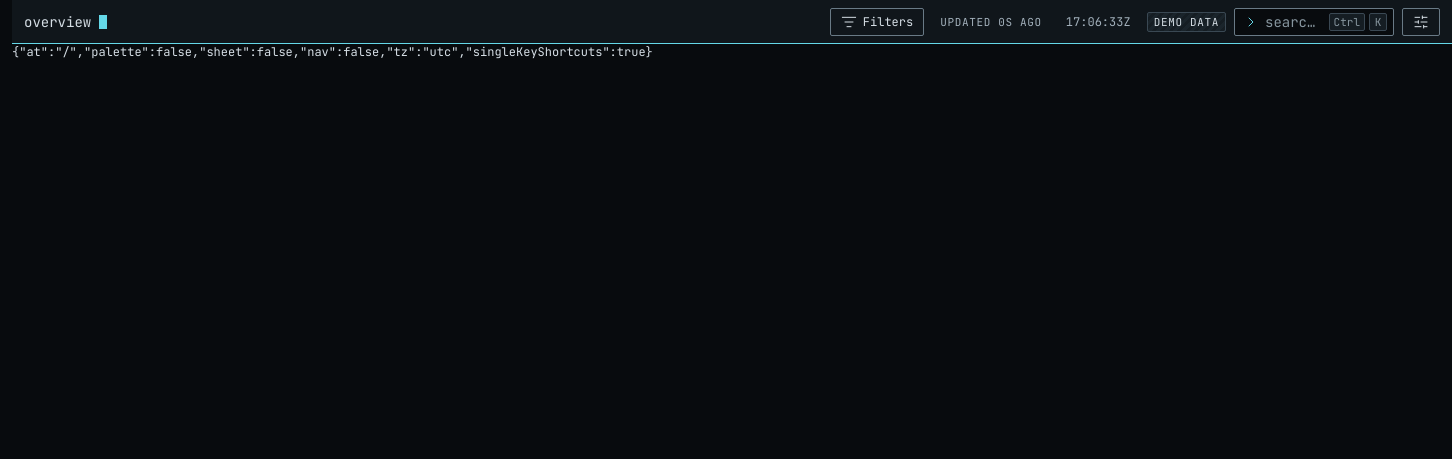
Test: Topbar: compact (below 1280px) › applies a choice from the menu, keeps the menu open, and shows how many filters are active
The width and height of the screenshot is (1452, 459).
Click the button "Filters".
click(877, 22)  # box [830,8,924,36]
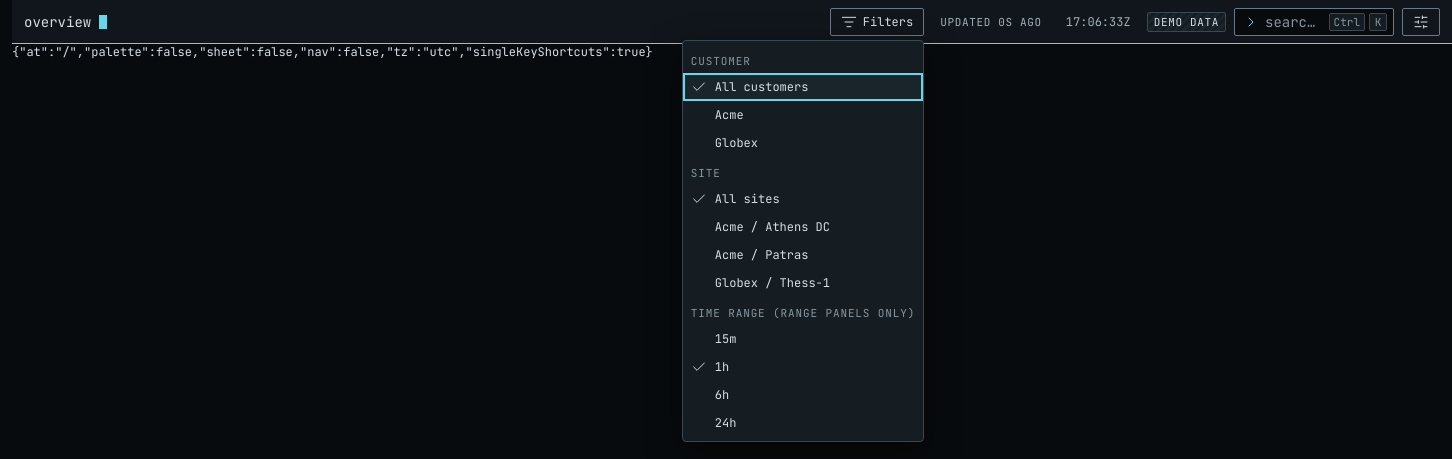
Click the menu item "Acme".
click(803, 115)  # box [683,101,923,129]
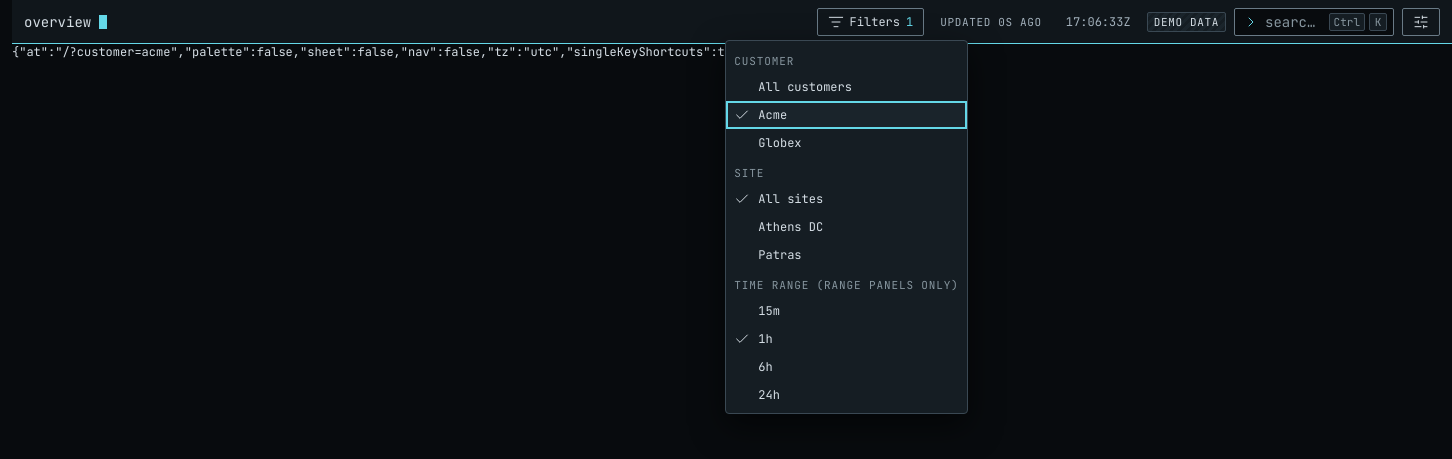
Click the menu item "6h".
click(846, 367)  # box [726,353,967,381]
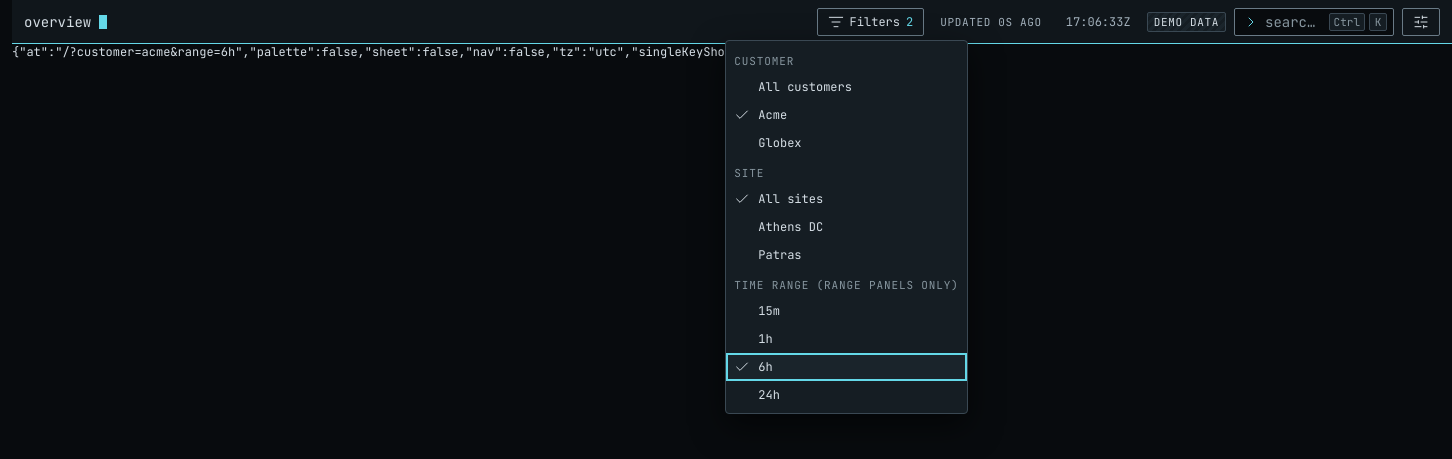
Expected: the menu named "Filters" is shown, [725,40,968,414]
Expected: the button with aria-label "Filters, 2 active" shows "2", [817,8,924,36]
